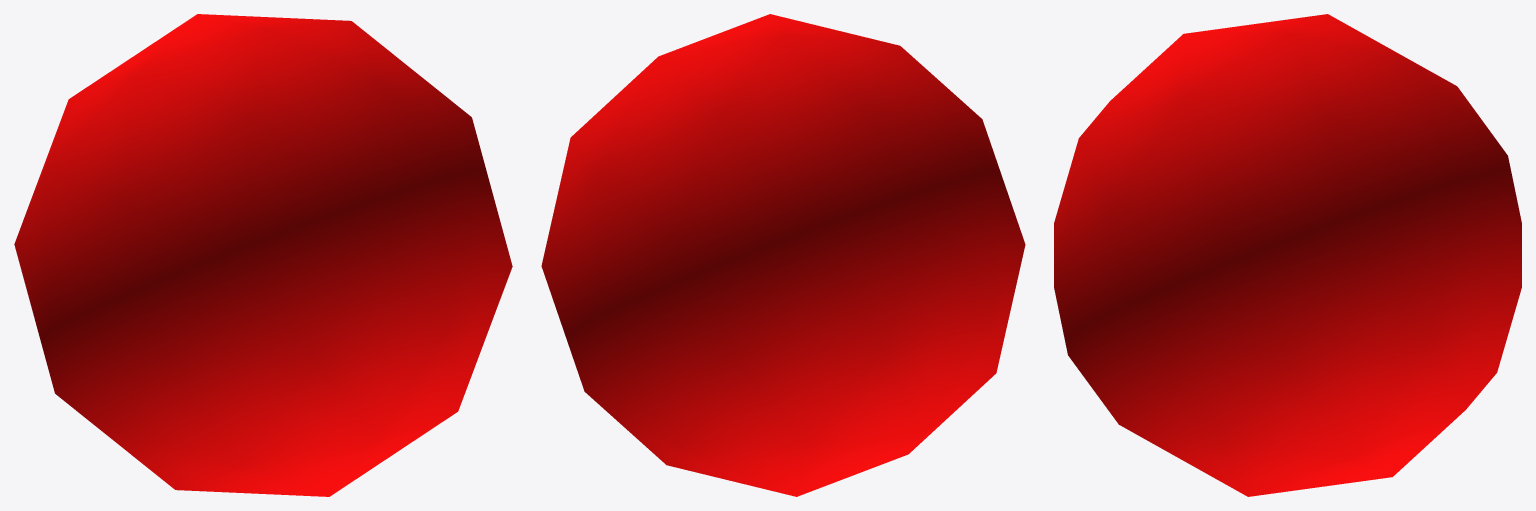
The model's file is okamidel.ico.obj.
3 views of the same model, side by side, from view 1: azimuth 30°, elevation 25°; view 2: azimuth 150°, elevation 25°; view 3: azimuth 270°, elevation 25° (orthographic). The views are drawn at different scales.
Bounding box in the file's own units: 0.1209 × 0.121 × 0.1151.
1 material, 1 textured.
